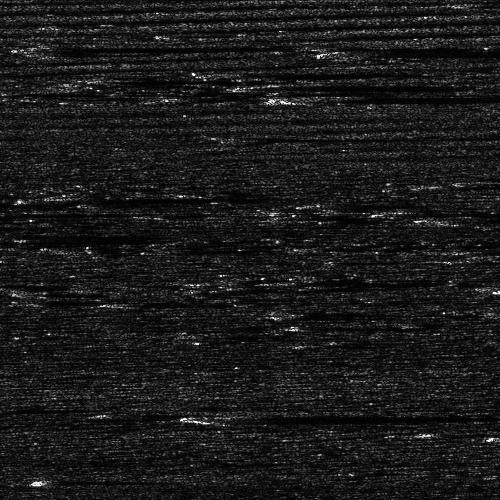object: (0, 192, 130, 205), (363, 209, 446, 224), (157, 412, 250, 423), (195, 82, 310, 89), (243, 95, 348, 102), (0, 44, 72, 53), (260, 323, 343, 330), (209, 132, 262, 141), (318, 49, 381, 56), (0, 232, 39, 243), (459, 282, 500, 291), (259, 307, 300, 316), (427, 181, 490, 186), (20, 477, 73, 482), (454, 248, 485, 251)
shadow: (52, 192, 288, 205), (204, 412, 457, 423), (3, 232, 186, 243), (253, 82, 500, 89), (36, 44, 227, 53), (296, 95, 500, 102), (405, 209, 500, 224), (236, 132, 386, 141), (350, 49, 500, 56), (279, 307, 383, 316), (302, 323, 406, 330), (0, 408, 105, 413), (46, 477, 145, 482), (458, 181, 500, 186), (470, 248, 500, 251)
